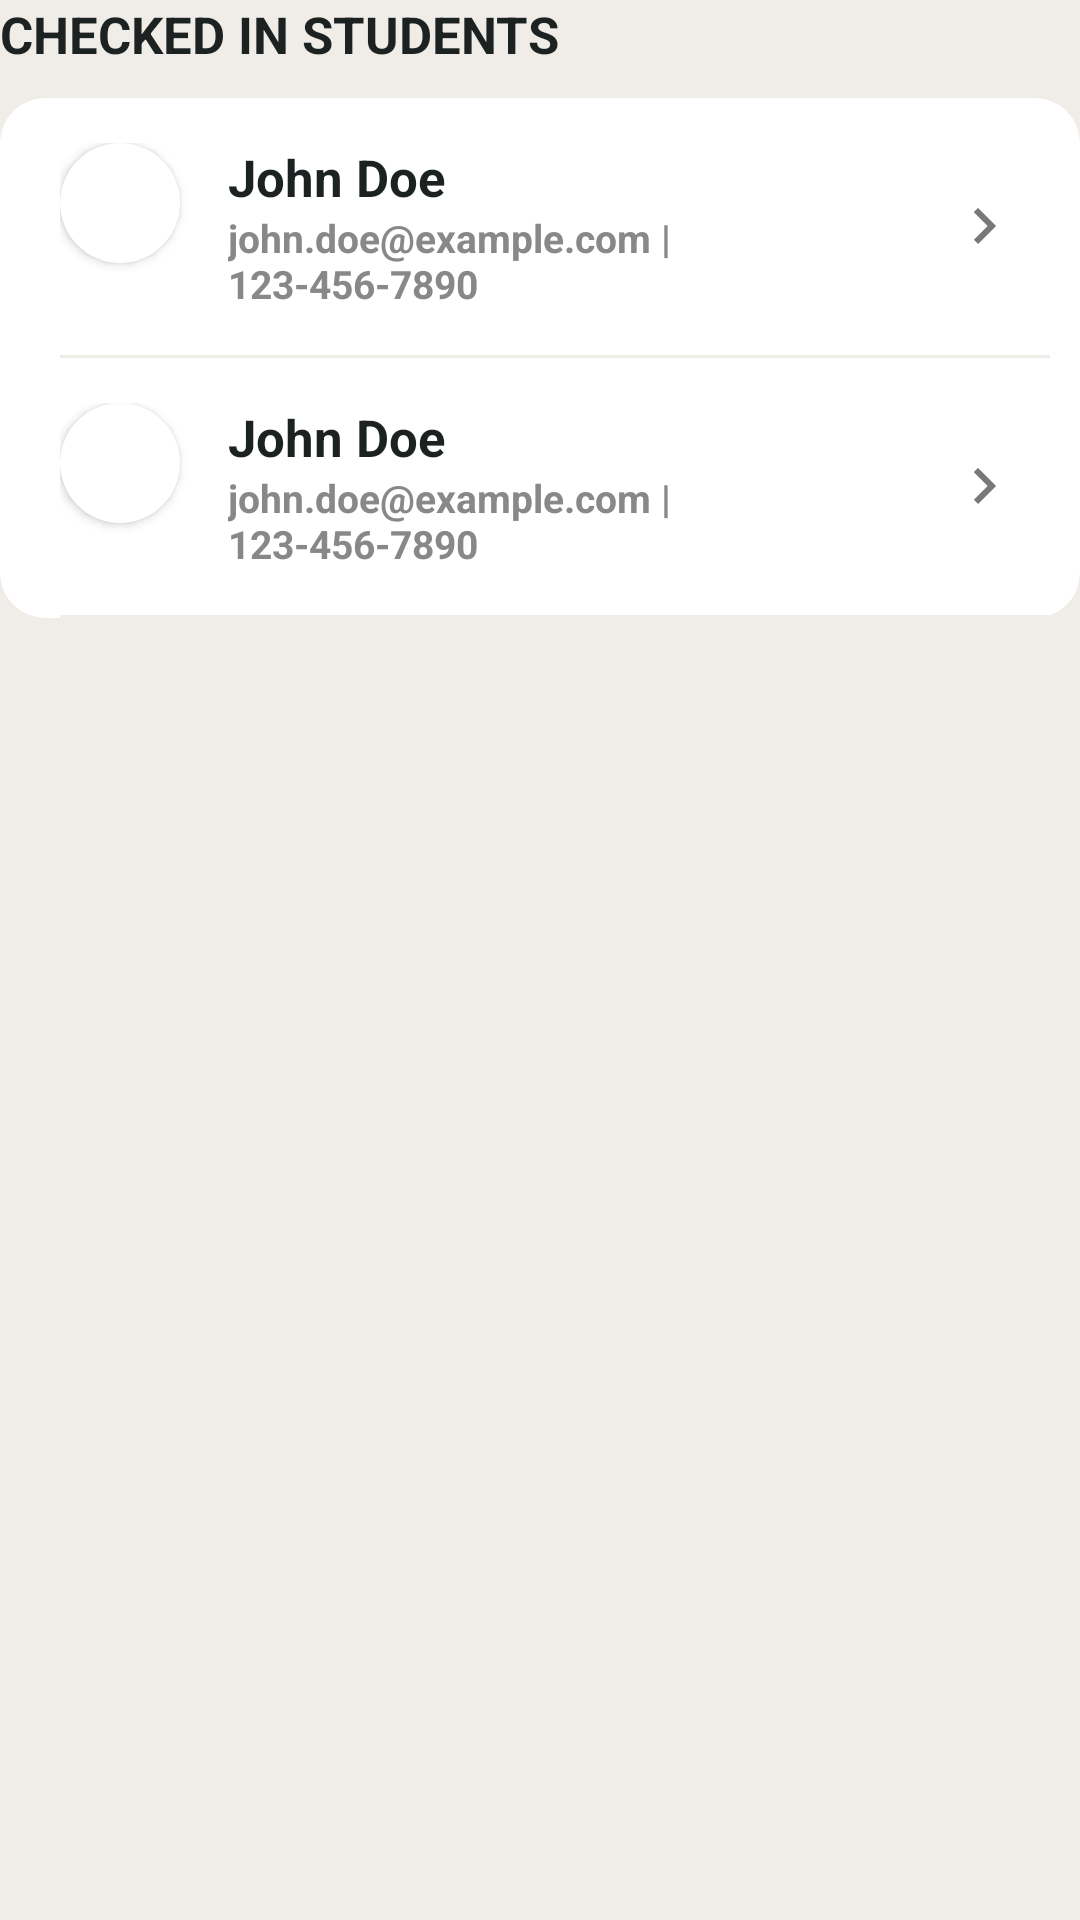

Screen size 1080*1920. Icon name, then its box in pixels as (x1, y1, x2, y2):
chevron right: (974, 208, 996, 244), (974, 468, 996, 504)
